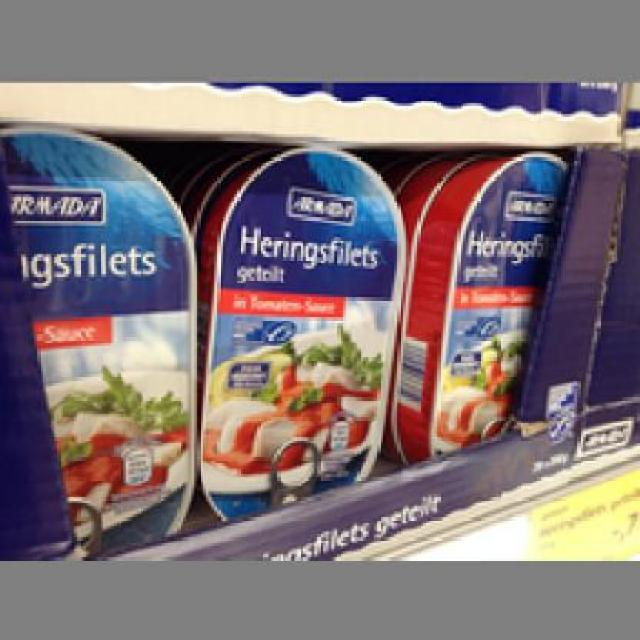Fish: (0, 120, 195, 549), (194, 146, 403, 514), (397, 150, 563, 447)
